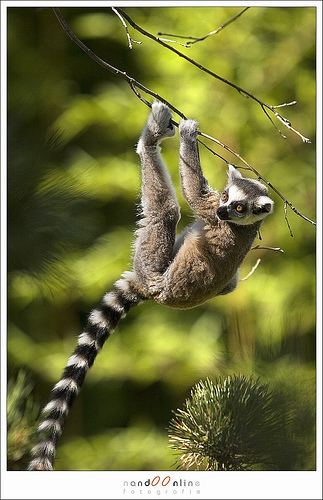cat: (30, 100, 274, 473)
